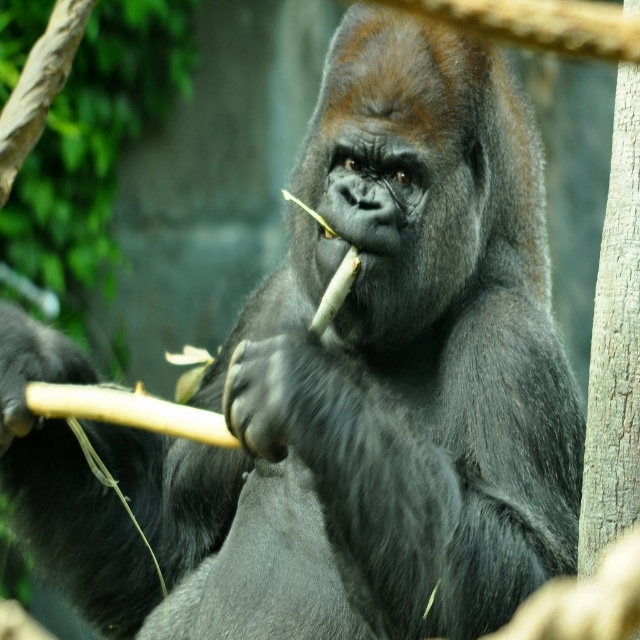Monkey: (0, 0, 588, 639)
